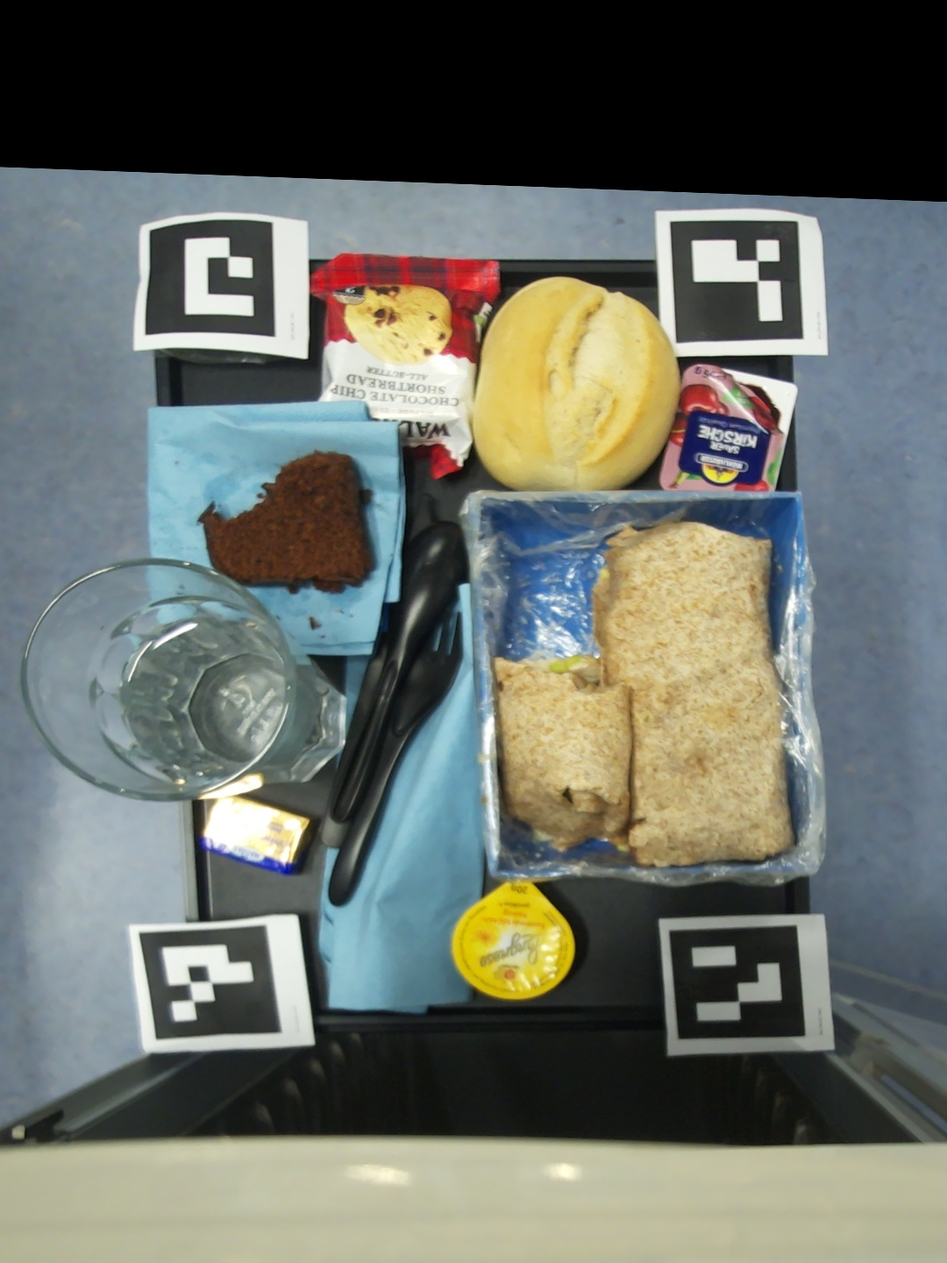bread_roll: (473, 277, 680, 491)
brownie: (198, 450, 376, 593), (311, 617, 322, 630)
butter: (199, 795, 320, 875)
cherry_jam: (660, 365, 798, 491)
cookie: (309, 253, 499, 479)
honey: (452, 881, 574, 1001)
water_bottle: (22, 562, 345, 802)
wrap_half_1: (494, 654, 631, 854)
wrap_half_2: (593, 522, 795, 868)
